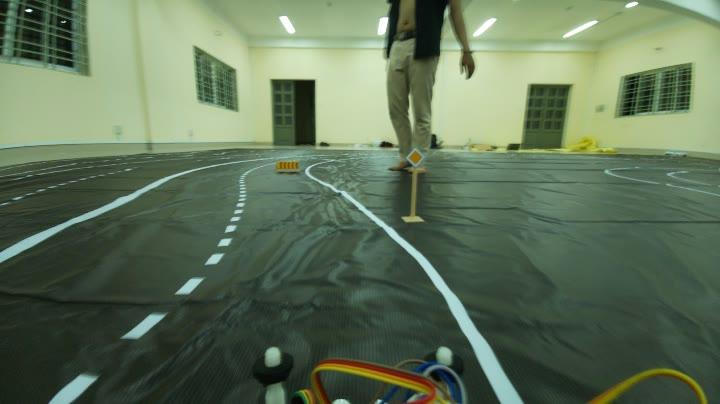priority: (406, 143, 425, 171)
